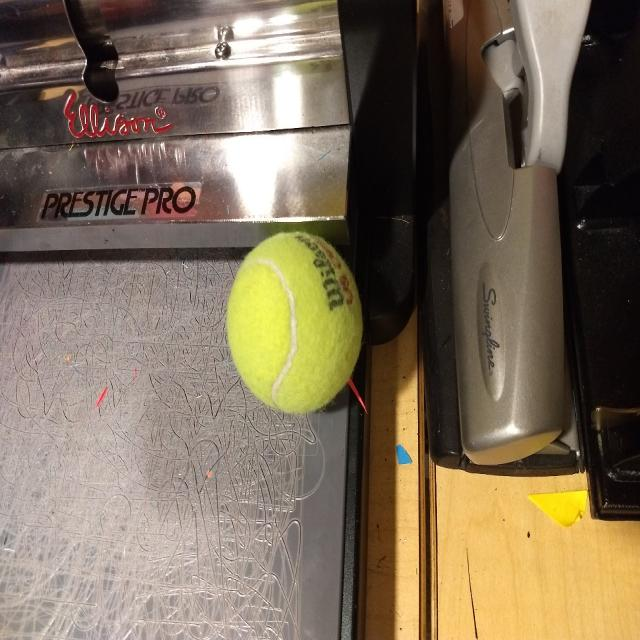Tennis-Ball: (228, 229, 365, 416)
